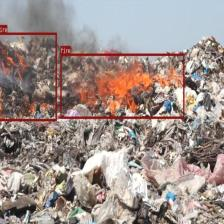fire: (60, 54, 184, 119), (0, 32, 56, 120)
